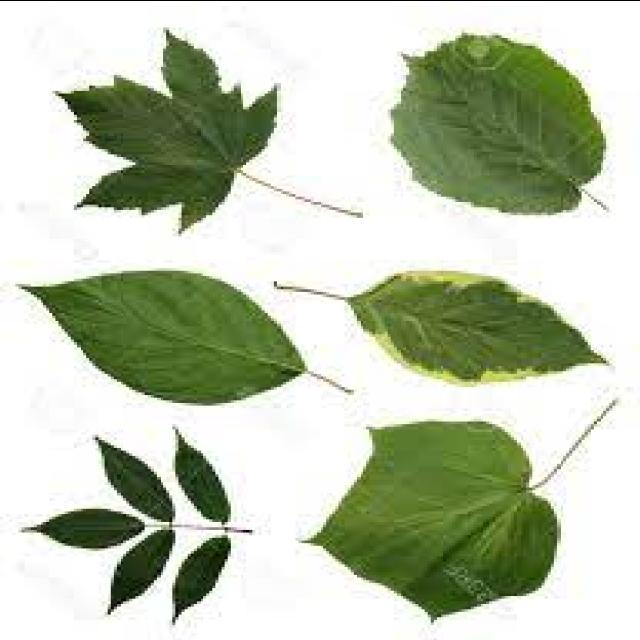leaves: (308, 421, 556, 618), (59, 32, 276, 229), (23, 271, 308, 404), (391, 34, 603, 212), (346, 272, 603, 378), (98, 439, 174, 521), (108, 530, 174, 611), (175, 432, 229, 521), (23, 508, 143, 548), (174, 539, 229, 620)
